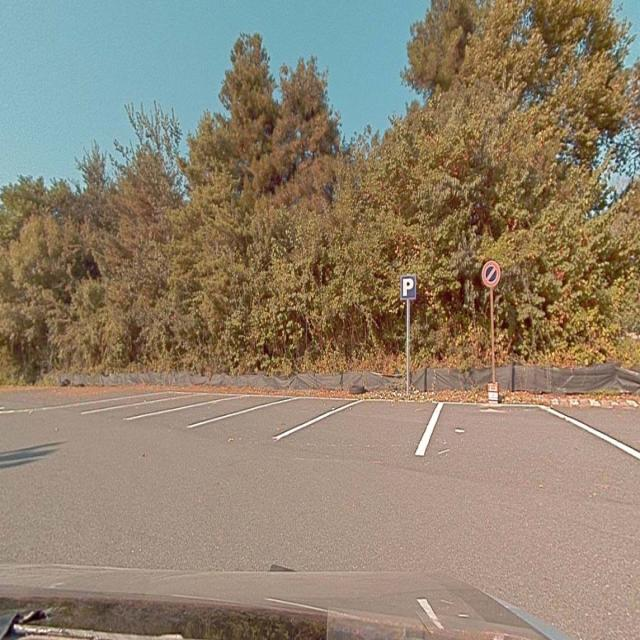park: (402, 277, 415, 298)
parkyasak: (482, 262, 500, 286)
